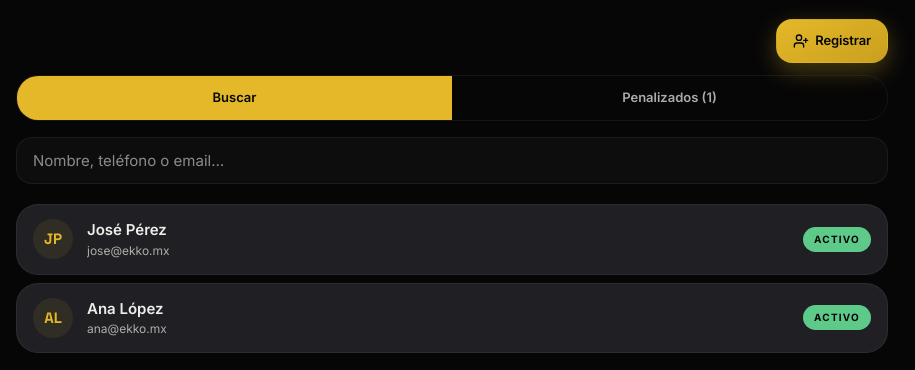
BuscarMiembro · teléfono (R7) › encuentra al miembro por los últimos dígitos de su teléfono
Expected: the text "José Pérez" is shown, x1=87 y1=220 x2=167 y2=239
Type "4567" into the search field named "Buscar miembro" at (452, 160), box x1=16 y1=137 x2=888 y2=184
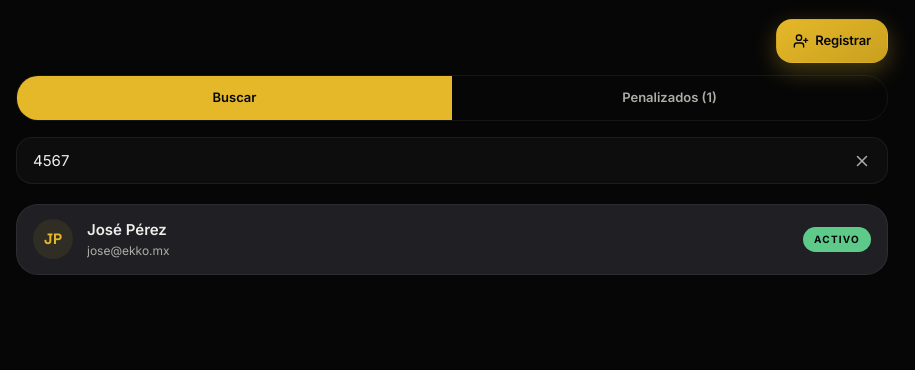
Expected: the text "José Pérez" is shown, x1=87 y1=220 x2=167 y2=239
Expected: the link "Ana López" is gone
